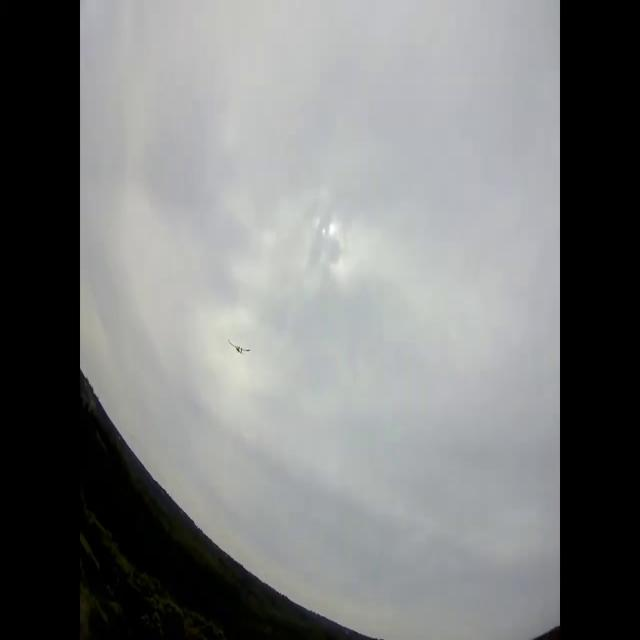iha: (228, 340, 250, 356)
